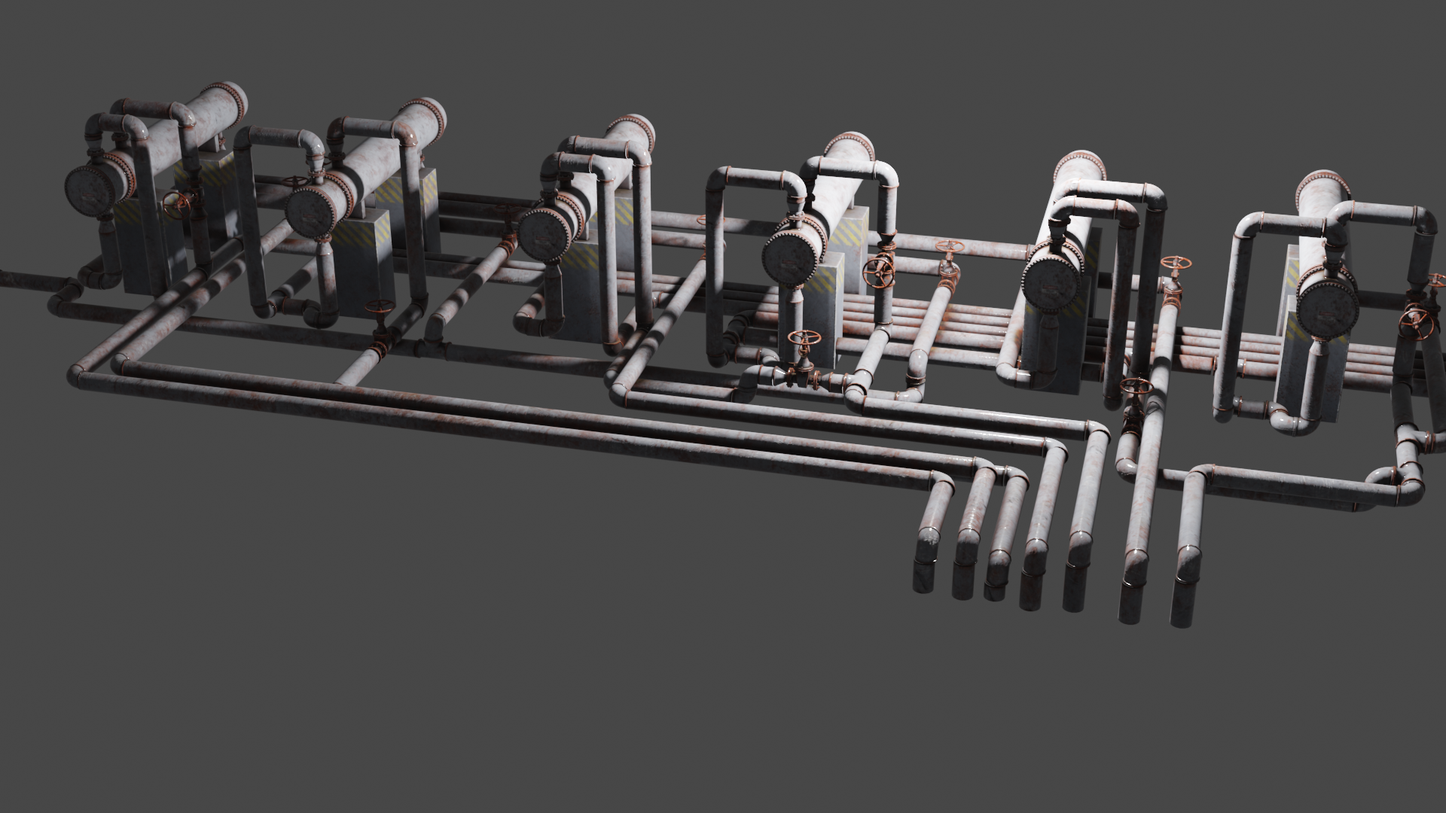HE_1: (63, 78, 247, 213)
HE_2: (282, 95, 446, 240)
HE_3: (514, 110, 655, 261)
HE_4: (758, 132, 874, 280)
HE_5: (1026, 152, 1107, 311)
HE_6: (1294, 167, 1359, 337)
